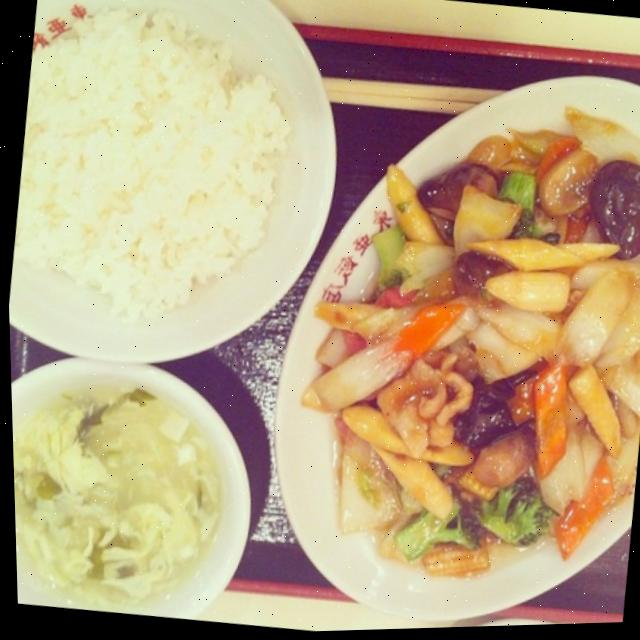米饭主食: (8, 286, 595, 640)
